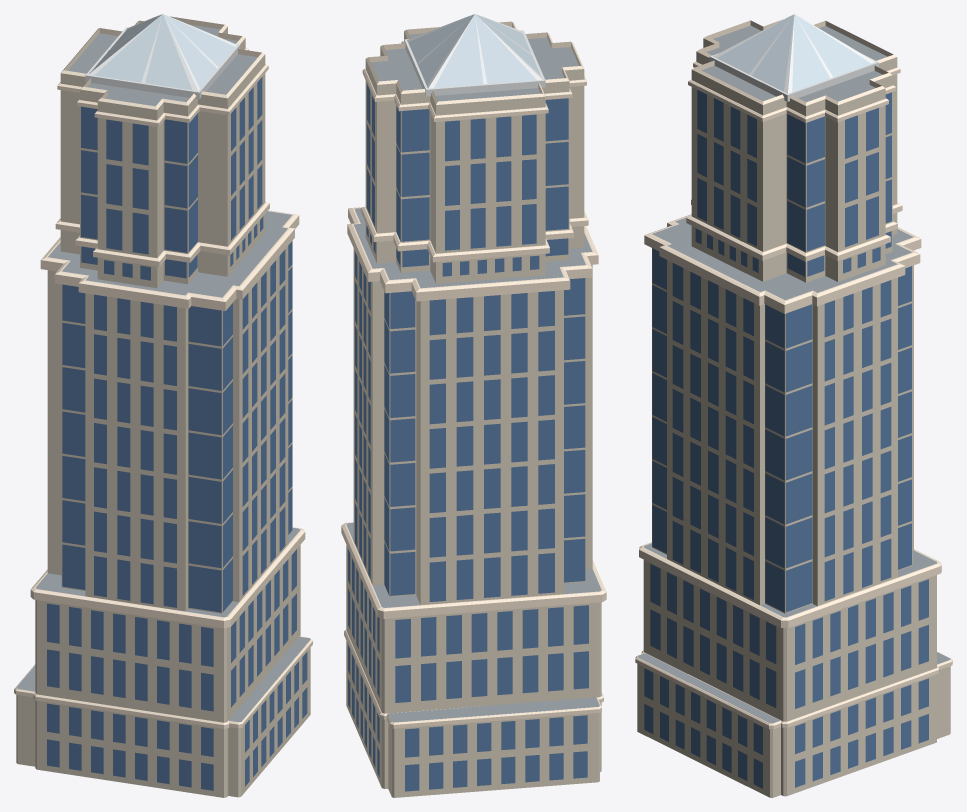
The picture shows the model from 3 angles, left to right: view 1: azimuth 30°, elevation 25°; view 2: azimuth 150°, elevation 25°; view 3: azimuth 270°, elevation 25°; orthographic projection.
Parts seen in each view (by area): view 1: bank-of-america-tower-charlotte; view 2: bank-of-america-tower-charlotte; view 3: bank-of-america-tower-charlotte.
Boxes of the visible parts, bbox=[...] form: bank-of-america-tower-charlotte: bbox=[14, 14, 312, 797]; bank-of-america-tower-charlotte: bbox=[341, 14, 606, 797]; bank-of-america-tower-charlotte: bbox=[635, 14, 952, 797].
Bounding box in the file's own units: 76.32 × 193 × 77.09.
